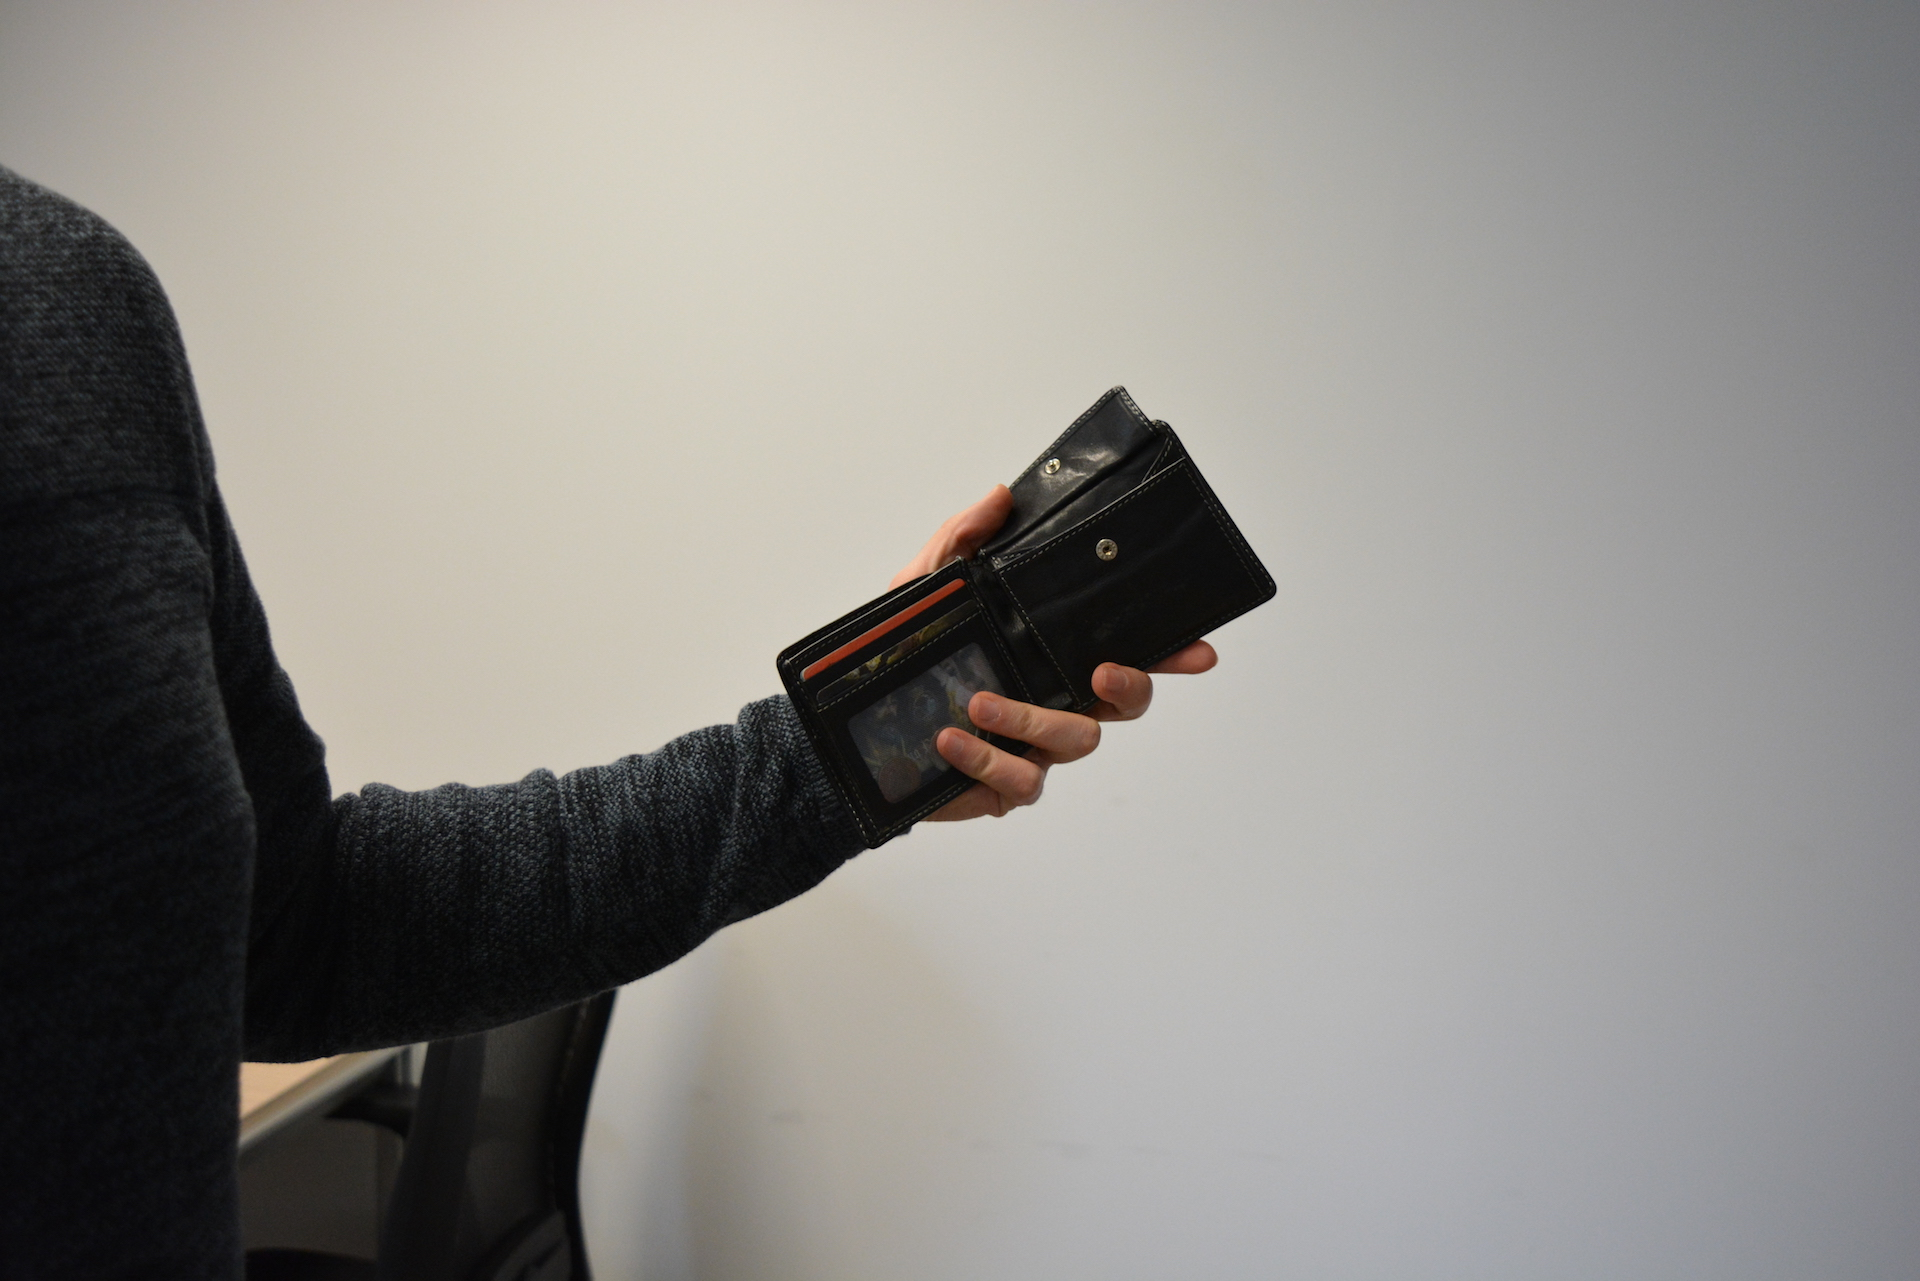monedero: (773, 383, 1280, 854)
